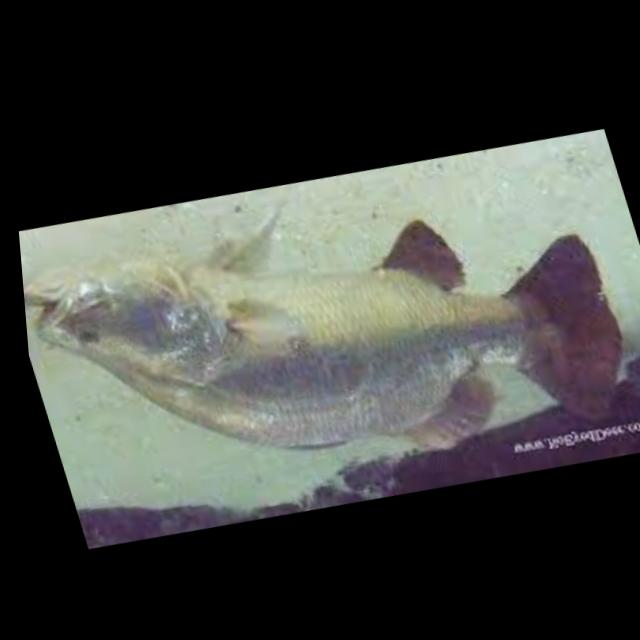Seabass: (13, 155, 640, 552)
